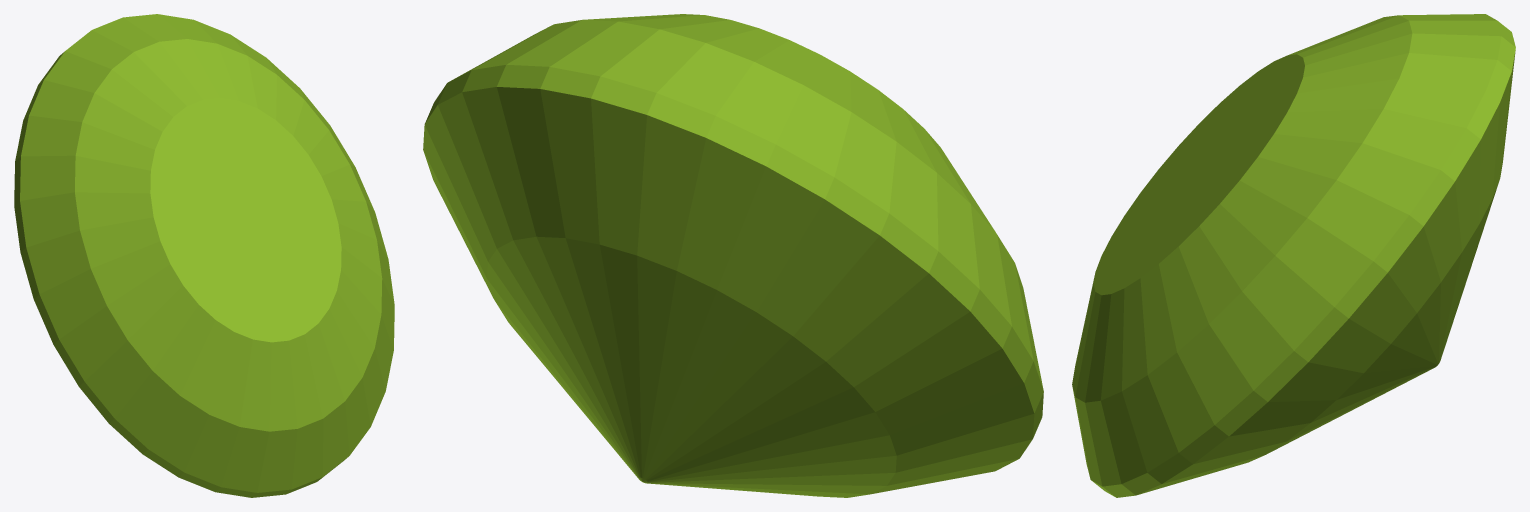
Rendered from peridot.glb.
3 renders of one model, left to right at view 1: azimuth 30°, elevation 25°; view 2: azimuth 150°, elevation 25°; view 3: azimuth 270°, elevation 25°, orthographic. The views are drawn at different scales.
Visible parts, largest first — view 1: peridot; view 2: peridot; view 3: peridot.
Boxes of the visible parts, box(x1,y1,x2,y2) form: peridot: box(14, 14, 394, 497); peridot: box(423, 14, 1043, 497); peridot: box(1072, 14, 1515, 497).
Bounding box in the file's own units: 1.75 × 1.79 × 1.63.
